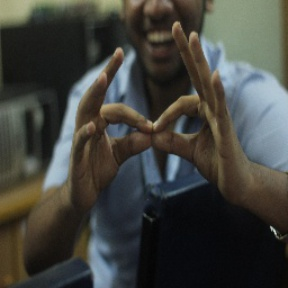B: (88, 81, 223, 176)
